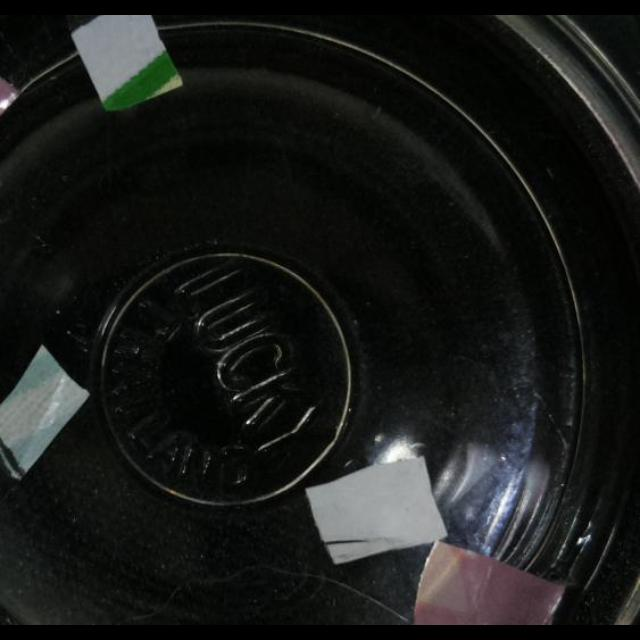Fragment: (304, 453, 450, 565), (413, 532, 562, 626), (0, 342, 91, 483), (67, 15, 179, 113), (0, 78, 24, 122)
